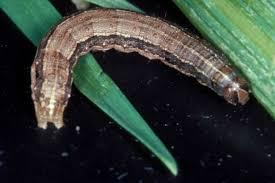fallarmy_worm: (26, 5, 254, 139)
